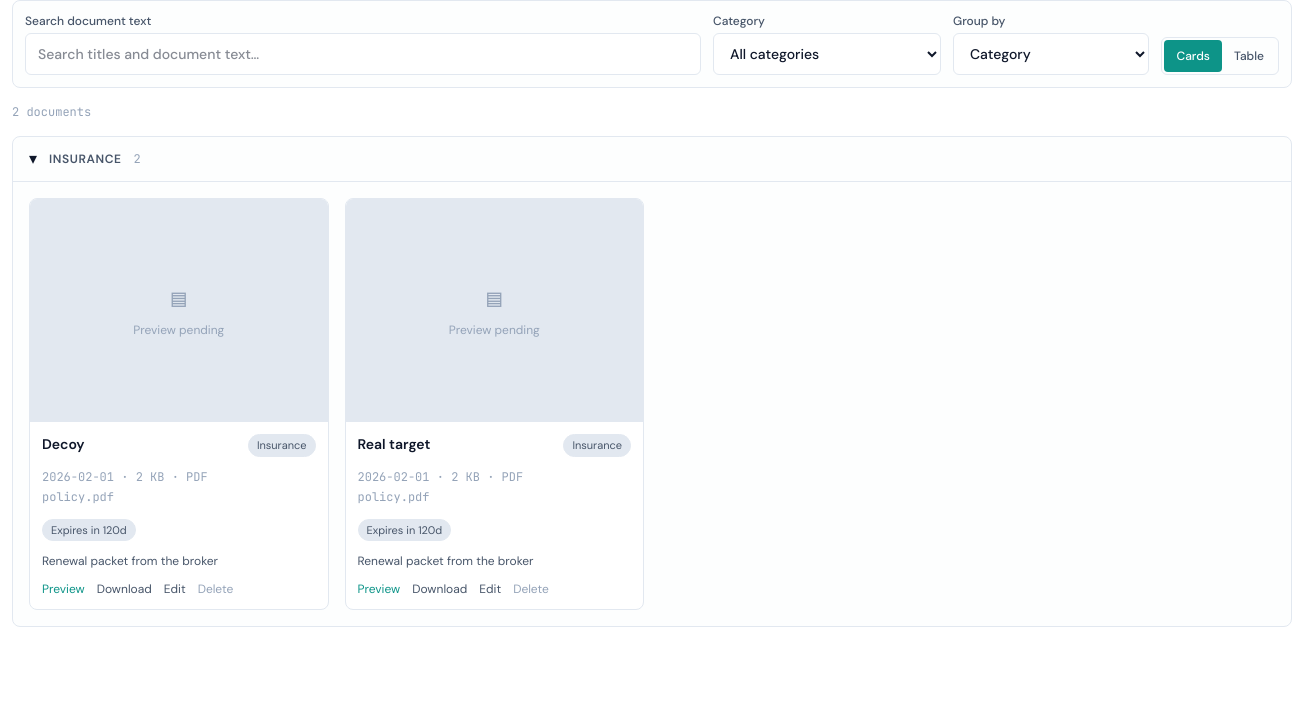
DocumentVaultBrowser › resolves a search hit by sourceId even when a canonical id collides with another document id
The image size is (1304, 720).
In the search field labelled "Search document text": (363,54) [25, 33, 701, 75], type "income"
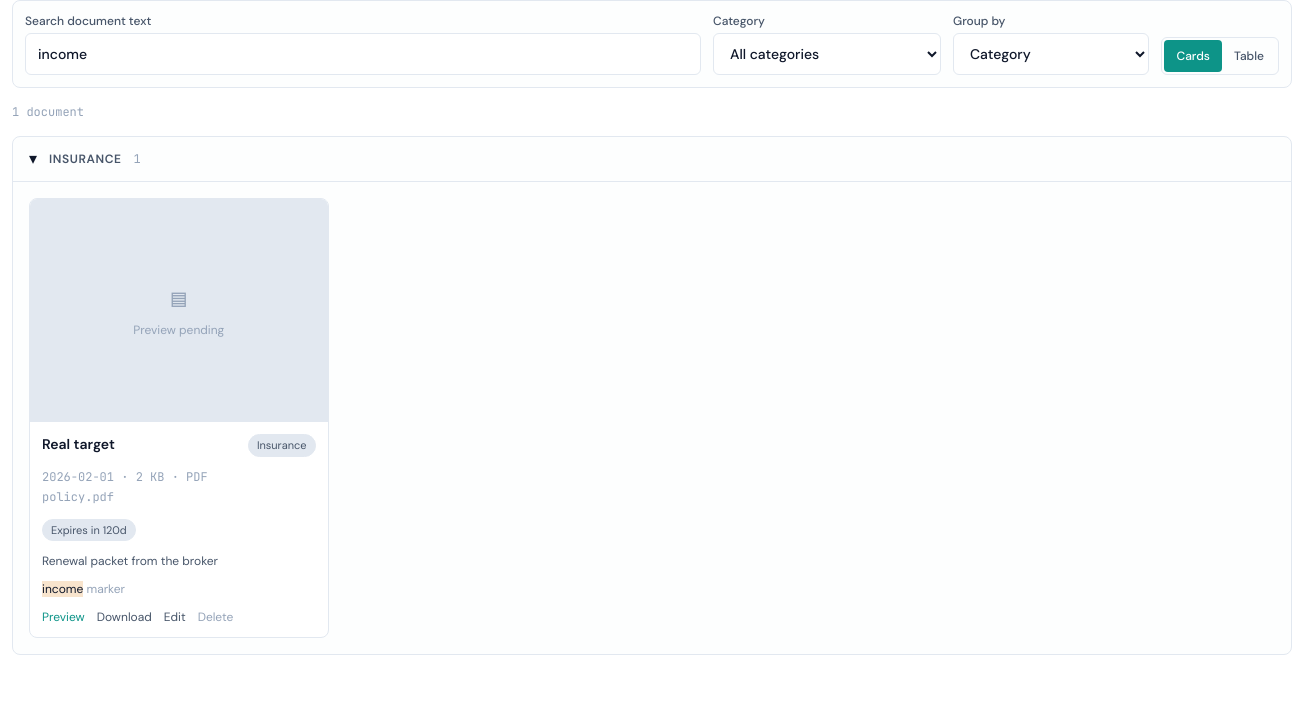
Check: the button "Real target" is shown, box [42, 434, 115, 454]
Check: the text "1 document" is shown, box [12, 104, 84, 120]
Check: the button "Decoy" is gone
